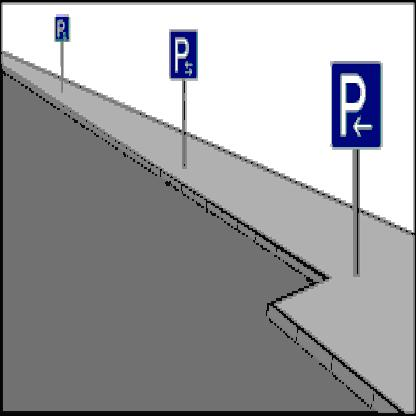Parking: (332, 61, 380, 150), (168, 30, 198, 81), (52, 19, 72, 44)
